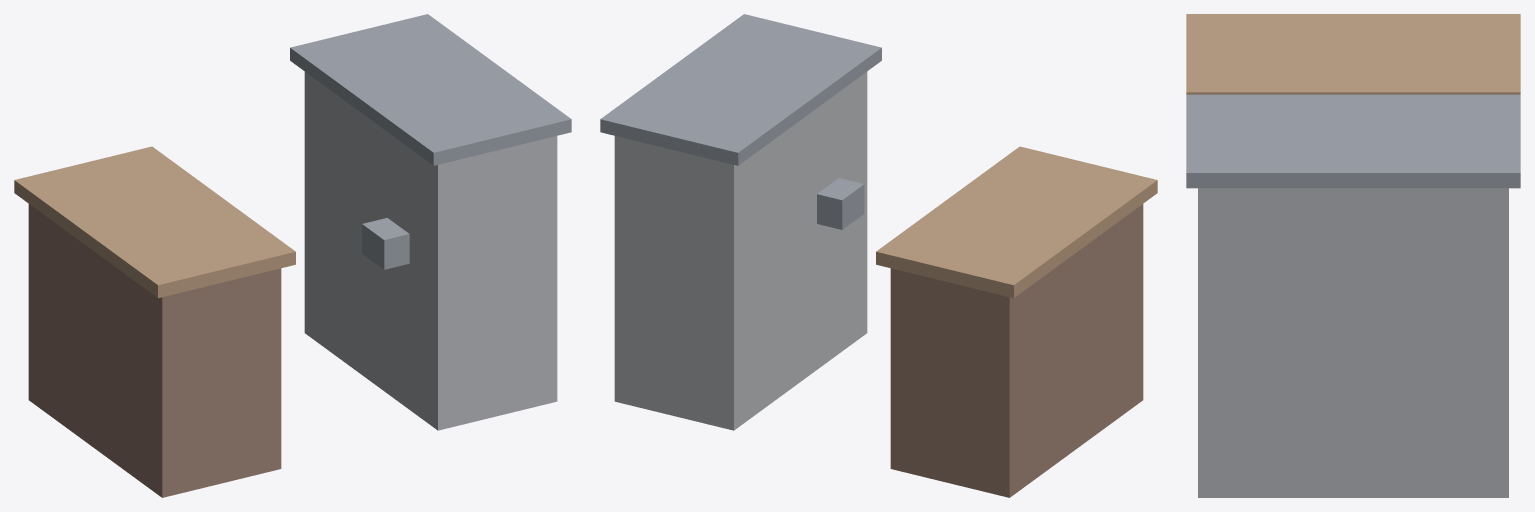
File: building_alley.glb
The picture shows the model from 3 angles, left to right: view 1: azimuth 30°, elevation 25°; view 2: azimuth 150°, elevation 25°; view 3: azimuth 270°, elevation 25°; orthographic projection. The views are drawn at different scales.
Visible parts, largest first — view 1: 001_right_building, 000_left_building, 003_roof_right, 002_roof_left, 005_ac_unit; view 2: 001_right_building, 000_left_building, 003_roof_right, 002_roof_left, 005_ac_unit; view 3: 001_right_building, 003_roof_right, 002_roof_left.
Boxes of the visible parts, left/top/right/bottom form: 001_right_building: left=304, top=71, right=557, bottom=430; 000_left_building: left=28, top=204, right=281, bottom=497; 003_roof_right: left=290, top=14, right=571, bottom=165; 002_roof_left: left=14, top=146, right=295, bottom=298; 005_ac_unit: left=362, top=218, right=409, bottom=269; 001_right_building: left=614, top=71, right=867, bottom=430; 000_left_building: left=890, top=204, right=1143, bottom=497; 003_roof_right: left=600, top=14, right=881, bottom=165; 002_roof_left: left=876, top=146, right=1157, bottom=298; 005_ac_unit: left=817, top=178, right=864, bottom=229; 001_right_building: left=1198, top=188, right=1508, bottom=497; 003_roof_right: left=1186, top=94, right=1520, bottom=188; 002_roof_left: left=1186, top=14, right=1520, bottom=94.
Size of the model in its own units: 4.65 by 3.05 by 2.8.
